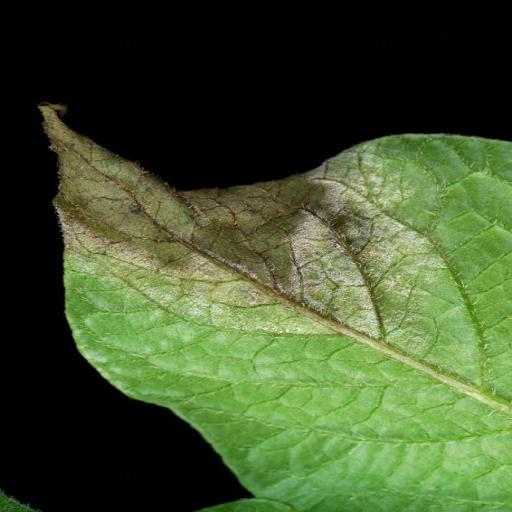Late Blight: (34, 99, 512, 512)
